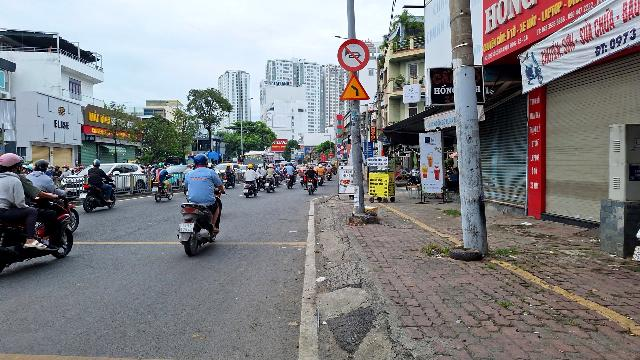cam-bop-coi: (337, 38, 369, 72)
cho-ngoat-nguy-hiem-ben-trai: (339, 73, 370, 101)
